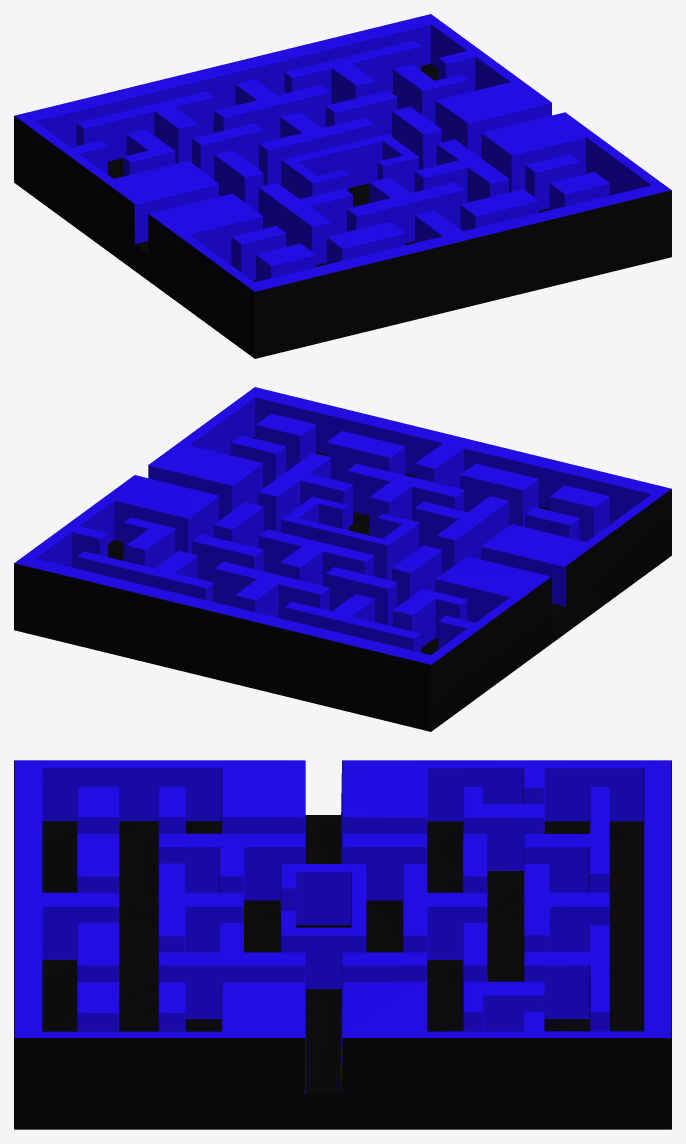
Rendered from nivel_de_pacma.fbx.
3 views of the same model, one above another, from view 1: azimuth 30°, elevation 25°; view 2: azimuth 150°, elevation 25°; view 3: azimuth 270°, elevation 25° (orthographic). The views are drawn at different scales.
Parts seen in each view (by area): view 1: nivel 1 de pacma; view 2: nivel 1 de pacma; view 3: nivel 1 de pacma.
Boxes of the visible parts, x1,y1,x2,y2 form: nivel 1 de pacma: (14,14,671,358); nivel 1 de pacma: (14,387,671,731); nivel 1 de pacma: (14,760,671,1129).
Bounding box in the file's own units: 200 × 30.77 × 200.
